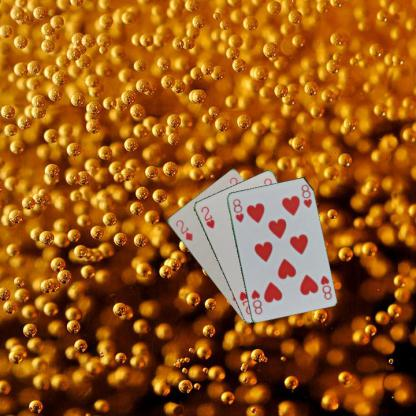2d: (172, 217, 194, 242)
2h: (198, 203, 216, 230)
8h: (318, 273, 333, 301), (230, 196, 245, 223)
